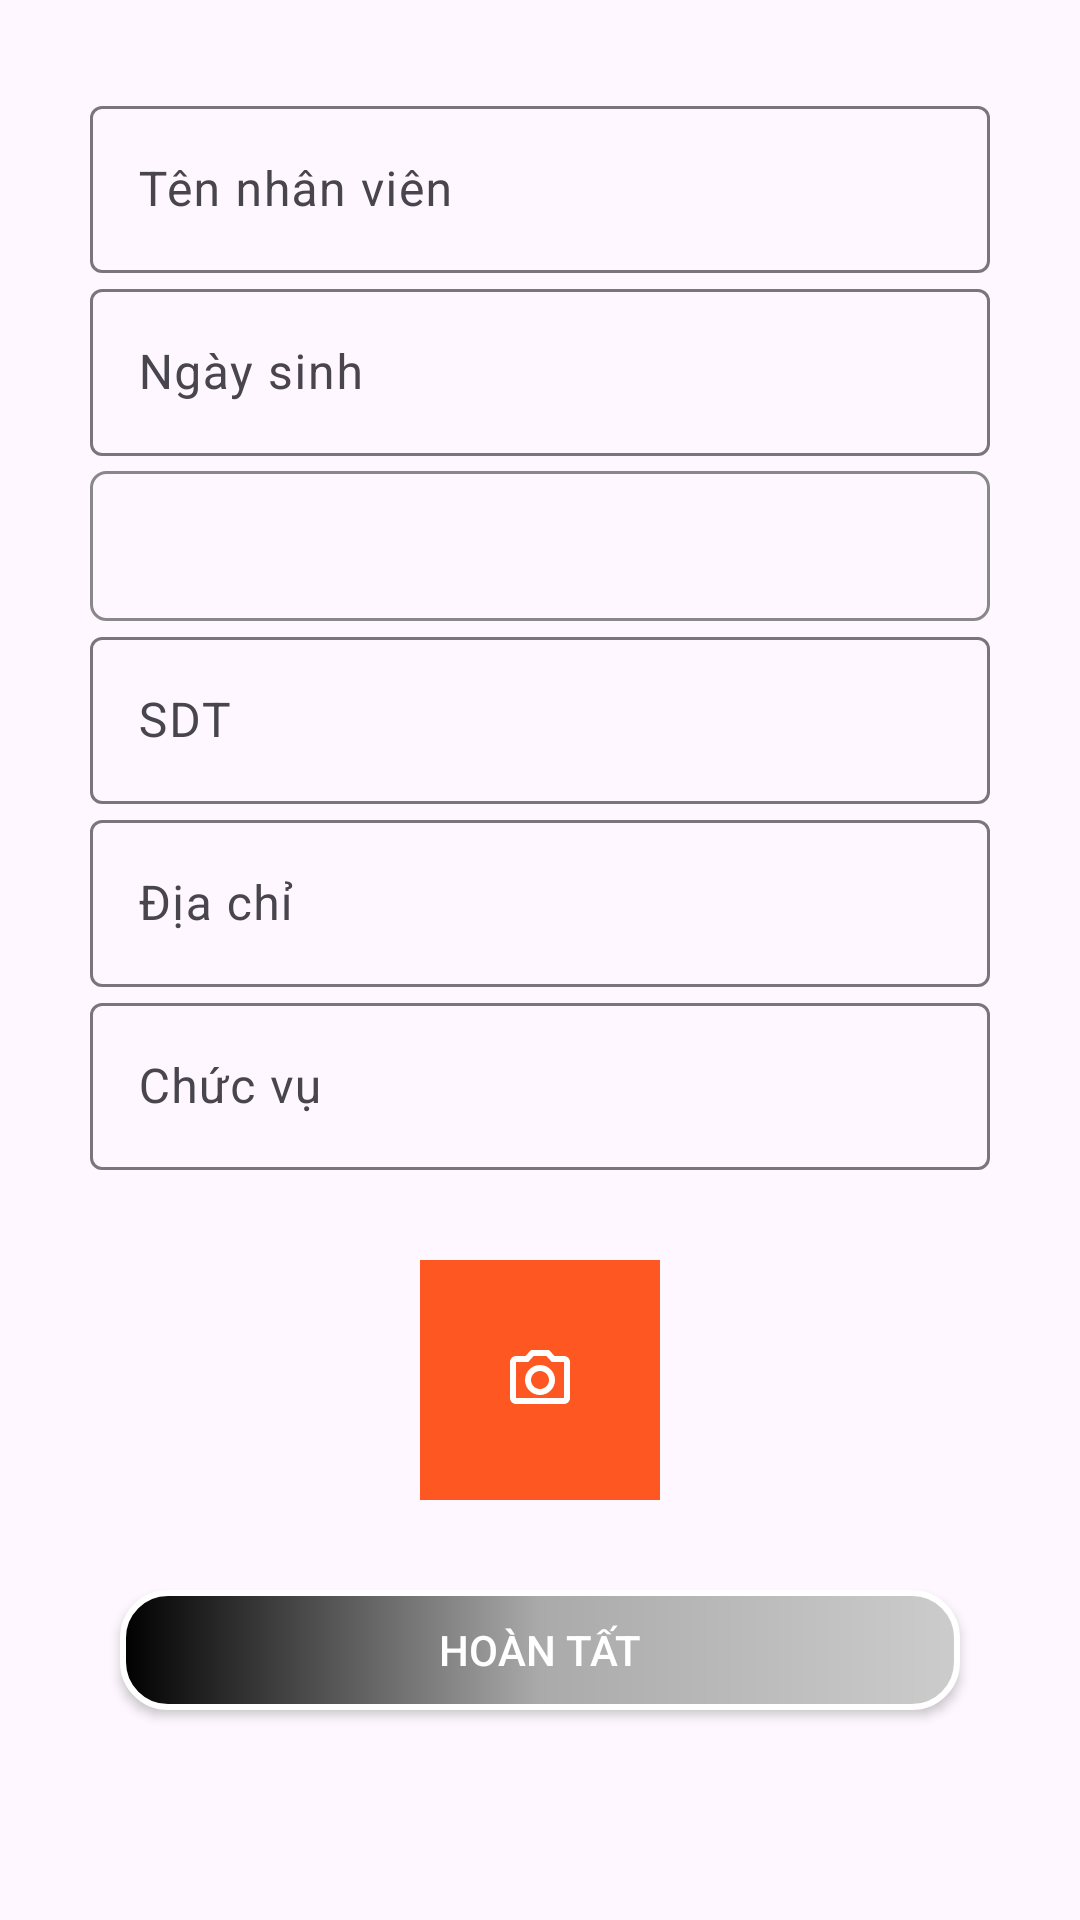

Locate icon controls on the screen. Image size 1080x1920, boxes as (x1, y1, x2, y2).
camera: (420, 1260, 660, 1500)
